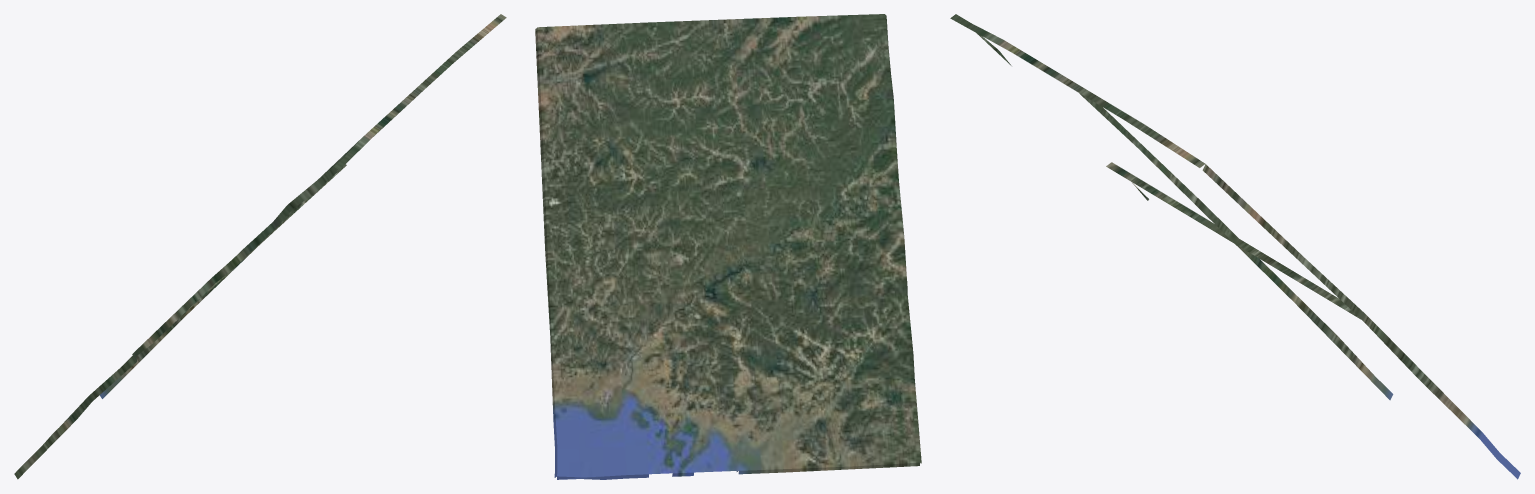
The picture shows the model from 3 angles, left to right: view 1: azimuth 30°, elevation 25°; view 2: azimuth 150°, elevation 25°; view 3: azimuth 270°, elevation 25°; orthographic projection. The views are drawn at different scales.
Size of the model in its own units: 315682 by 242067 by 307665.
Materials: 1 (1 with a texture image).
